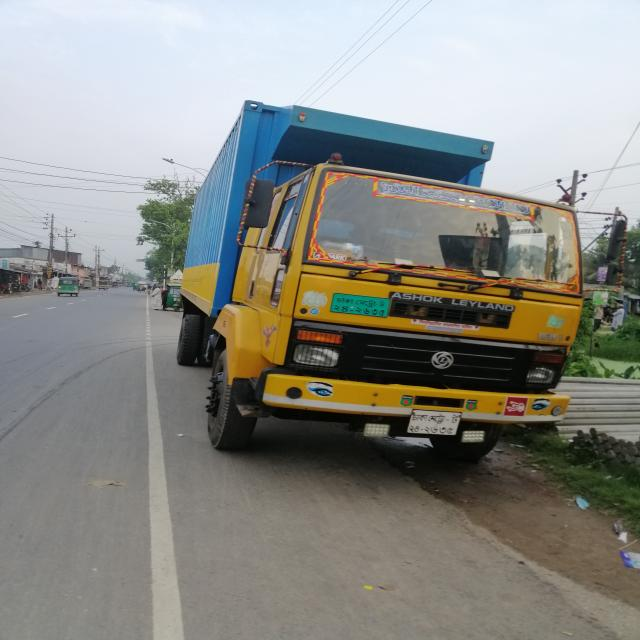Truck: (146, 99, 602, 467)
